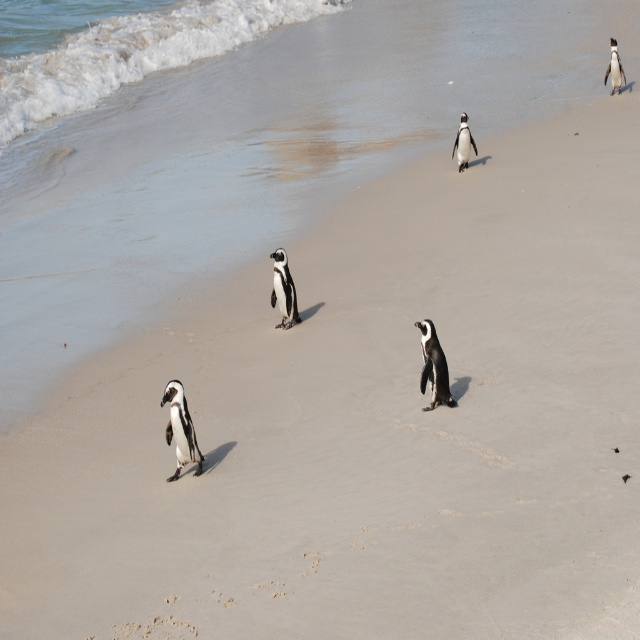Penguin: (158, 376, 208, 483), (414, 316, 462, 413), (269, 249, 306, 329), (450, 113, 479, 176), (604, 37, 625, 98)
